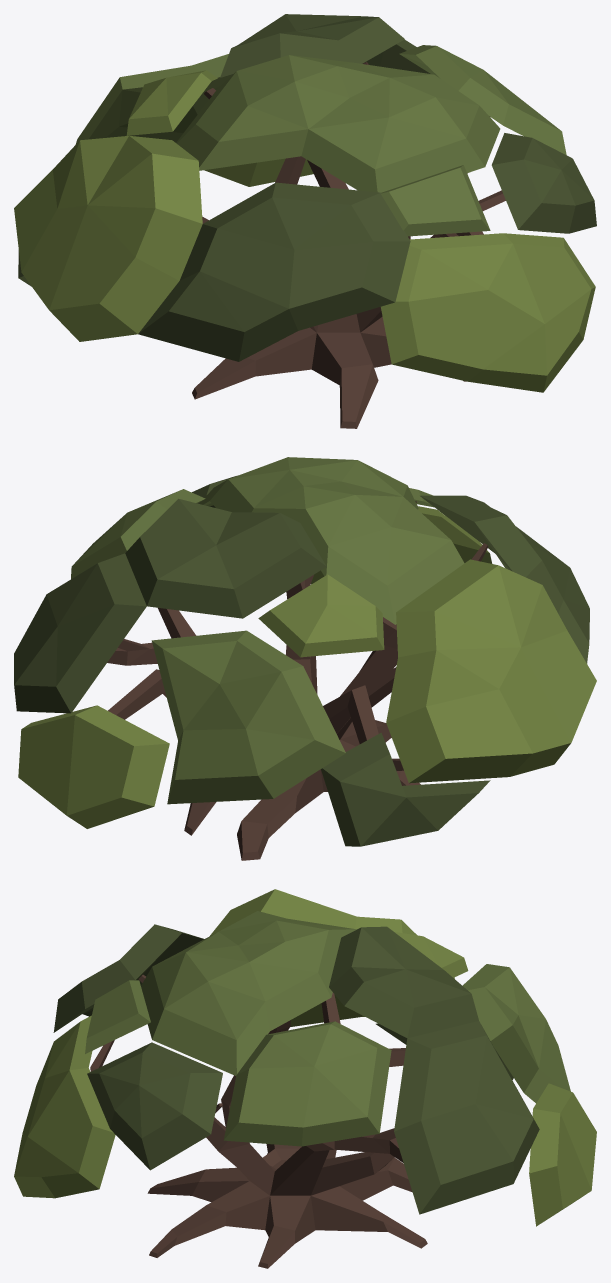
Rendered from models.glb.
3 renders of one model, top to bottom at view 1: azimuth 30°, elevation 25°; view 2: azimuth 150°, elevation 25°; view 3: azimuth 270°, elevation 25°, orthographic. The views are drawn at different scales.
Visible parts, largest first — view 1: Tree0; view 2: Tree0; view 3: Tree0.
Boxes of the visible parts, box(x1,y1,x2,y2) form: Tree0: box(14, 14, 596, 428); Tree0: box(14, 457, 596, 860); Tree0: box(14, 889, 596, 1268).
Bounding box in the file's own units: 5.83 × 3.51 × 6.34.
Materials: 1 (1 with a texture image).
